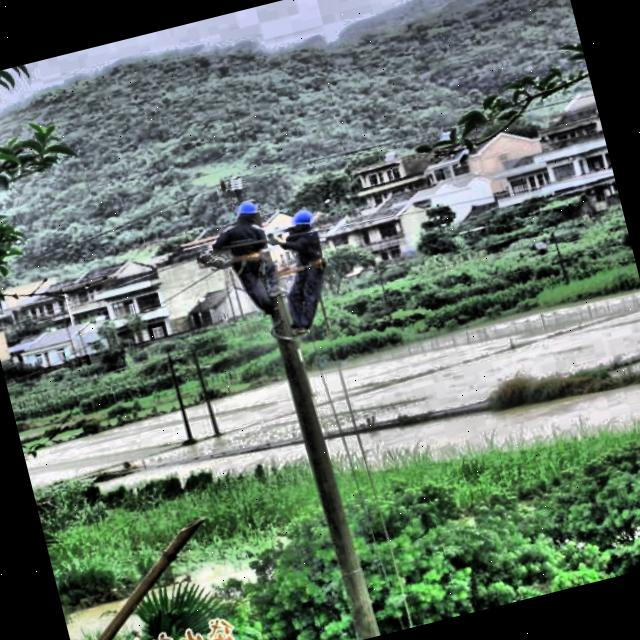helmet: (281, 204, 317, 242), (230, 198, 259, 230)
